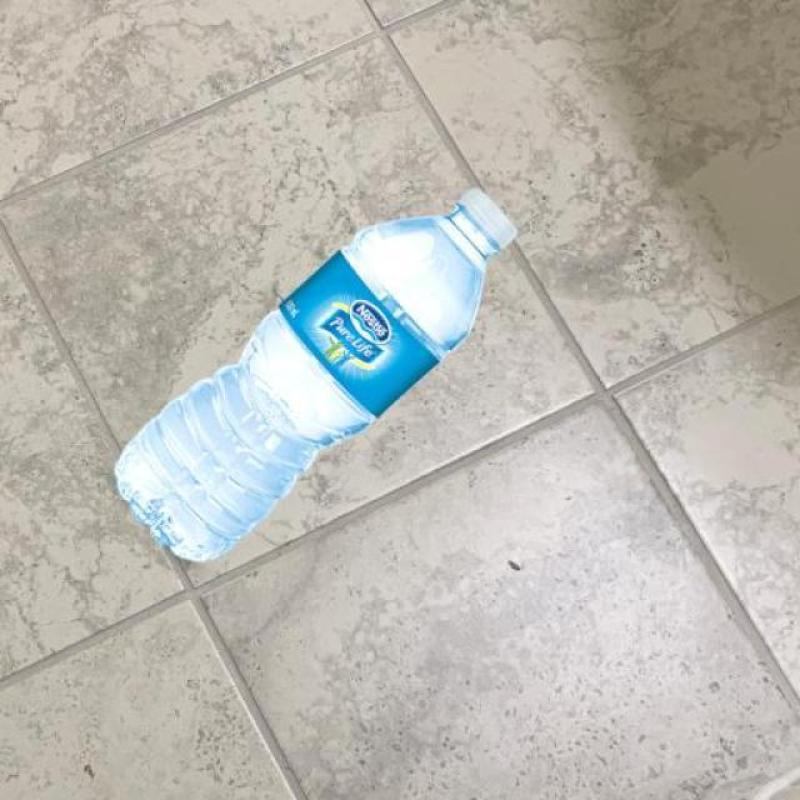botella: (106, 188, 519, 562)
